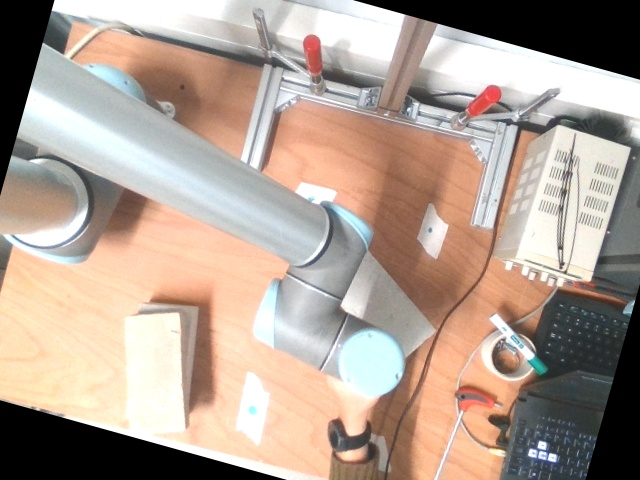brick: (128, 314, 182, 435)
